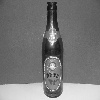beer: (43, 1, 70, 98)
